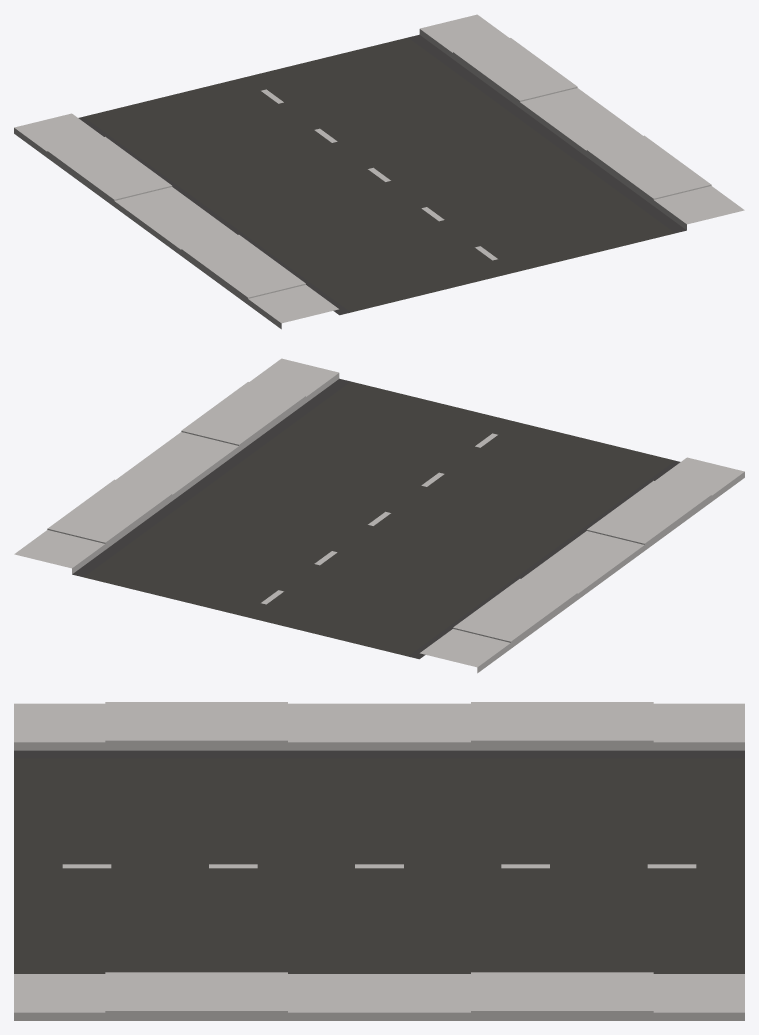
File: upm_mu5vzk9w522.glb
3 renders of one model, top to bottom at view 1: azimuth 30°, elevation 25°; view 2: azimuth 150°, elevation 25°; view 3: azimuth 270°, elevation 25°, orthographic. The views are drawn at different scales.
Parts seen in each view (by area): view 1: Street_Straight; view 2: Street_Straight; view 3: Street_Straight.
Boxes of the visible parts, x1=… form: Street_Straight: x1=14, y1=14, x2=744, y2=329; Street_Straight: x1=14, y1=358, x2=744, y2=673; Street_Straight: x1=14, y1=702, x2=744, y2=1020.
Bounding box in the file's own units: 2 × 0.03 × 2.
Materials: 1 (1 with a texture image).
